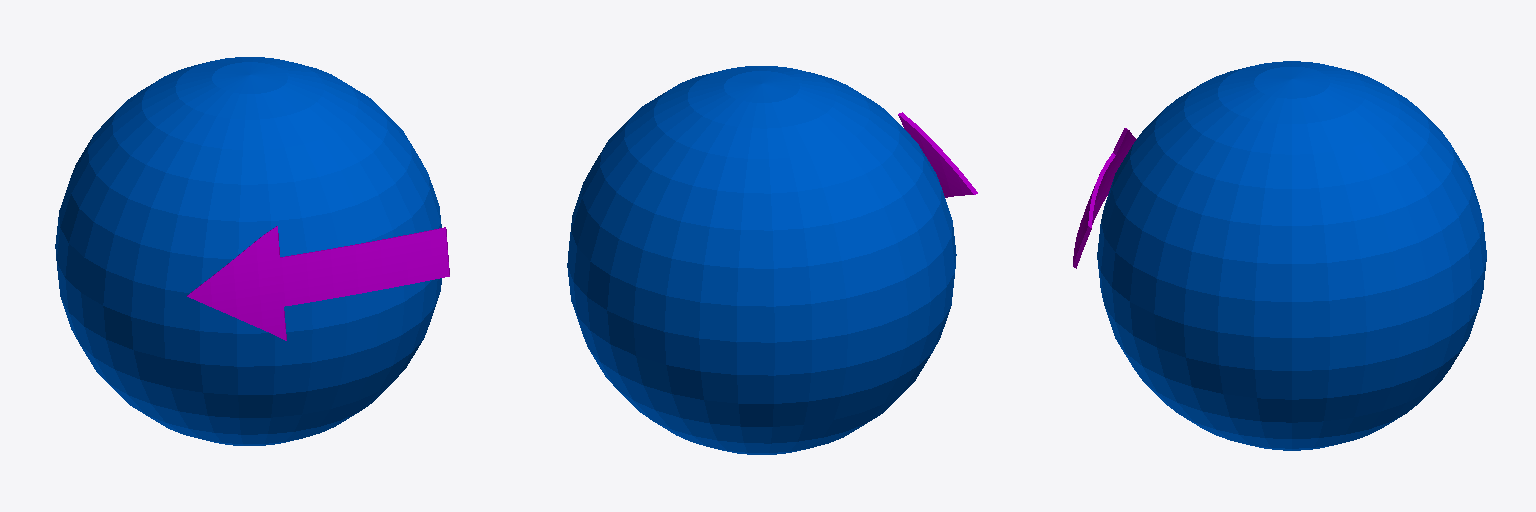
The model's file is spin_1.obj.
The picture shows the model from 3 angles: view 1: azimuth 30°, elevation 25°; view 2: azimuth 150°, elevation 25°; view 3: azimuth 270°, elevation 25°; orthographic projection.
Visible parts, largest first — view 1: Sphere_Sphere.324, Plane_Plane.001; view 2: Sphere_Sphere.324, Plane_Plane.001; view 3: Sphere_Sphere.324, Plane_Plane.001.
Boxes of the visible parts, x1=… form: Sphere_Sphere.324: x1=55, y1=57, x2=441, y2=445; Plane_Plane.001: x1=187, y1=226, x2=449, y2=340; Sphere_Sphere.324: x1=567, y1=66, x2=956, y2=454; Plane_Plane.001: x1=898, y1=112, x2=977, y2=197; Sphere_Sphere.324: x1=1097, y1=61, x2=1486, y2=450; Plane_Plane.001: x1=1073, y1=128, x2=1136, y2=268.
Bounding box in the file's own units: 2 × 2 × 2.12.